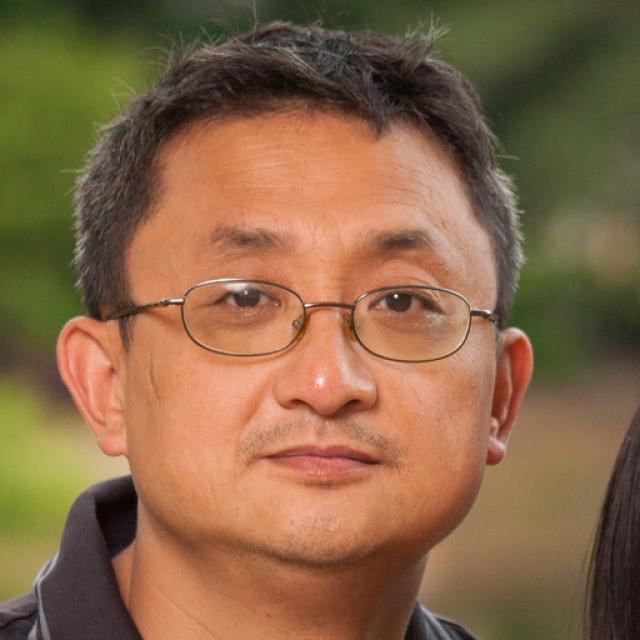neutral: (126, 111, 496, 565)
